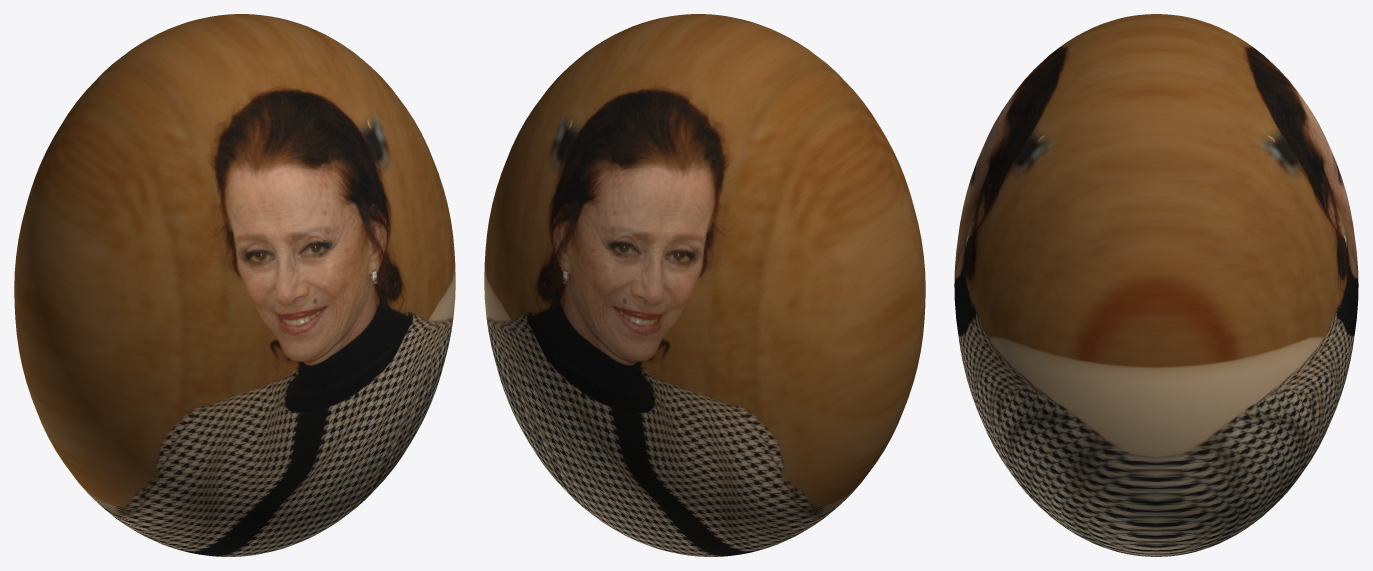
File: maya-plisetskaya.glb
The picture shows the model from 3 angles, left to right: view 1: azimuth 30°, elevation 25°; view 2: azimuth 150°, elevation 25°; view 3: azimuth 270°, elevation 25°; orthographic projection.
Visible parts, largest first — view 1: head; view 2: head; view 3: head.
Part boxes in pixels (x1,y1,x2,y2): head: [14, 14, 455, 556]; head: [484, 14, 925, 556]; head: [954, 14, 1358, 556].
Bounding box in the file's own units: 1.6 × 2 × 1.44.
Materials: 1 (1 with a texture image).
